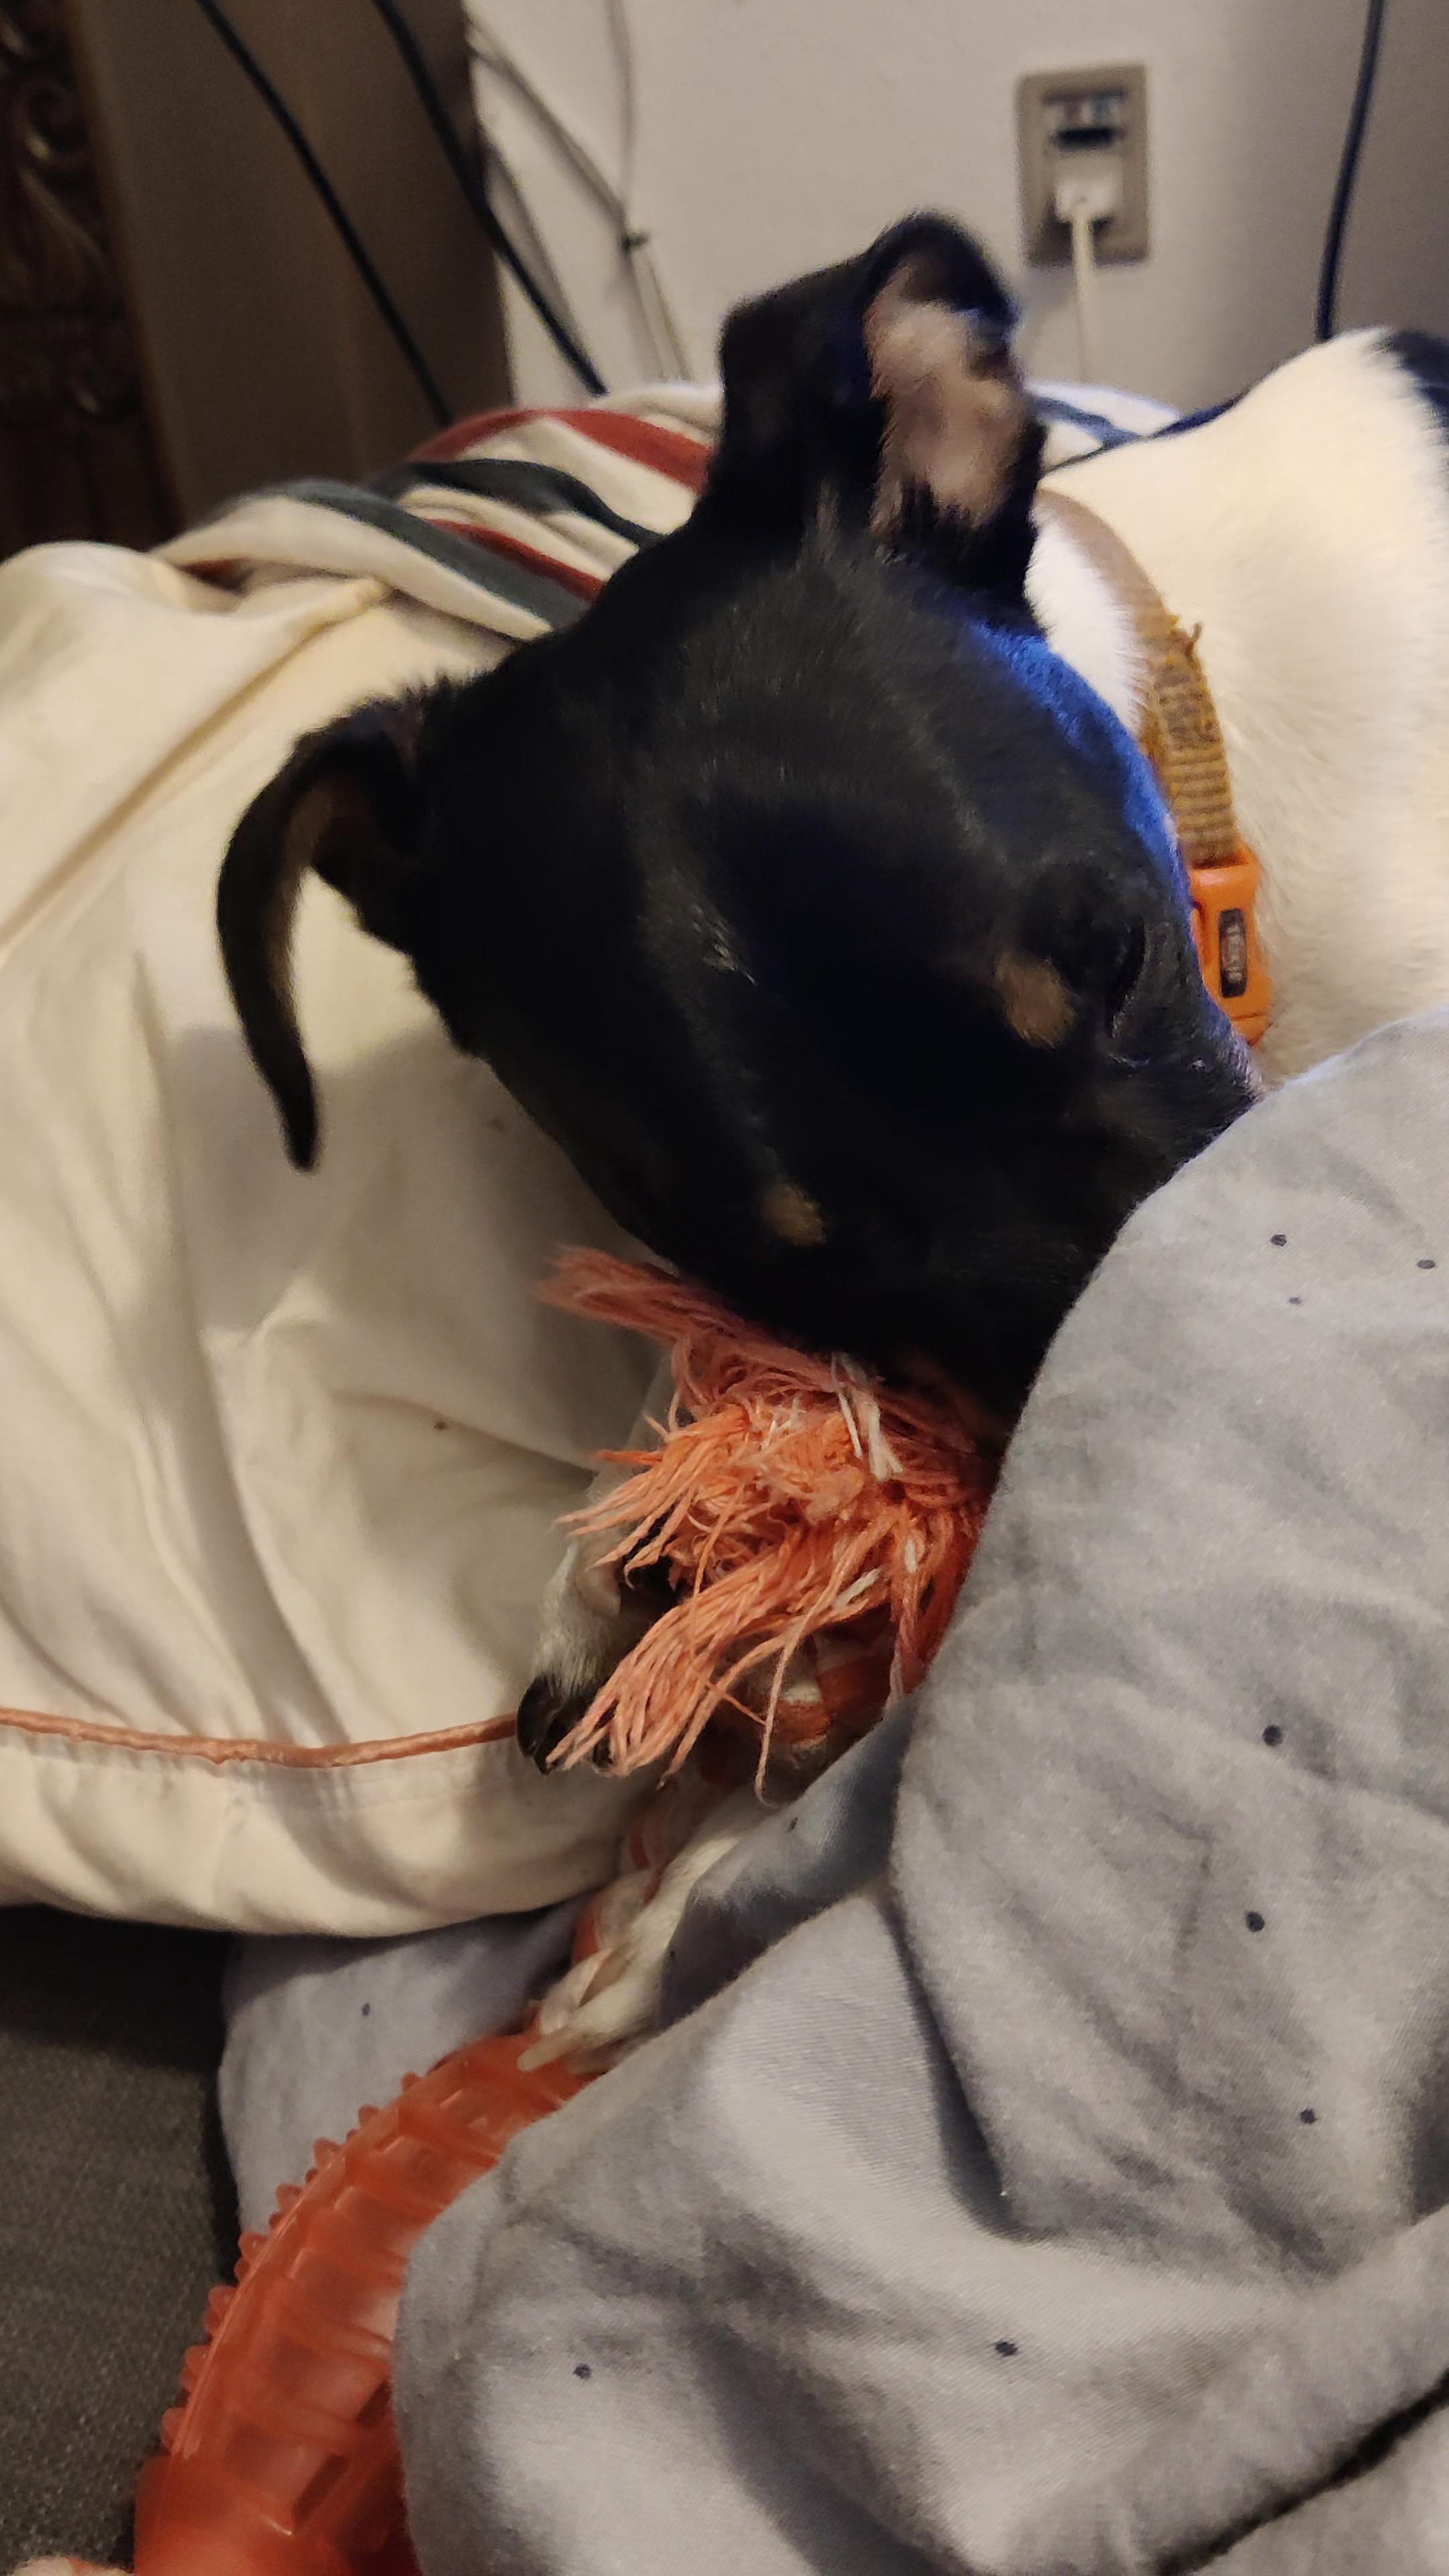Dog: (196, 193, 1449, 2097)
